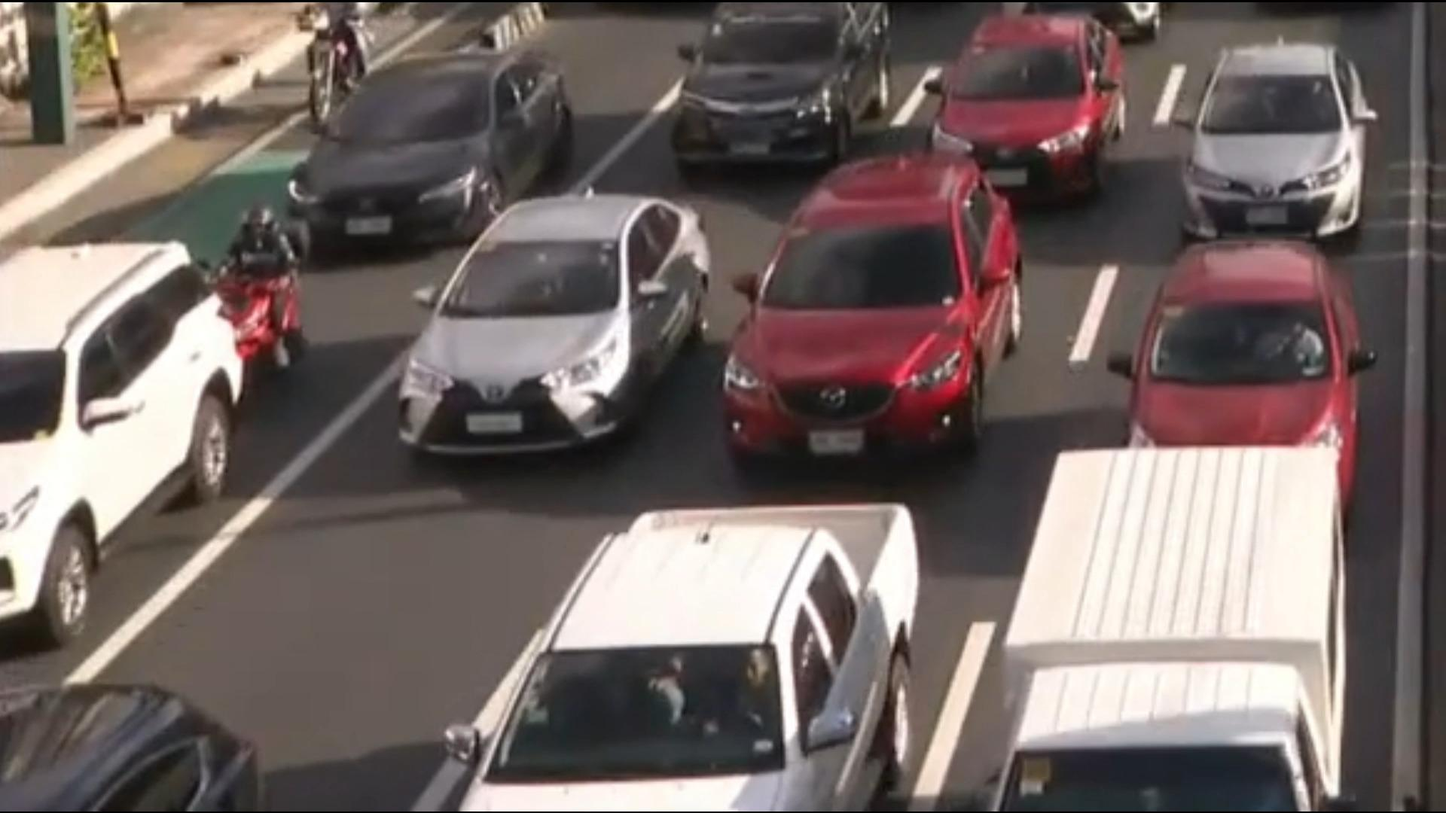Motorcycle: (222, 194, 307, 403), (292, 0, 367, 120)
Multicab: (990, 444, 1371, 813)
Pickup: (410, 493, 936, 811)
SUV: (0, 235, 243, 664), (729, 156, 1011, 467), (663, 0, 896, 160)
Sedan: (394, 190, 710, 459), (1118, 239, 1359, 512), (305, 60, 557, 237), (1169, 45, 1378, 241), (936, 13, 1120, 201)
